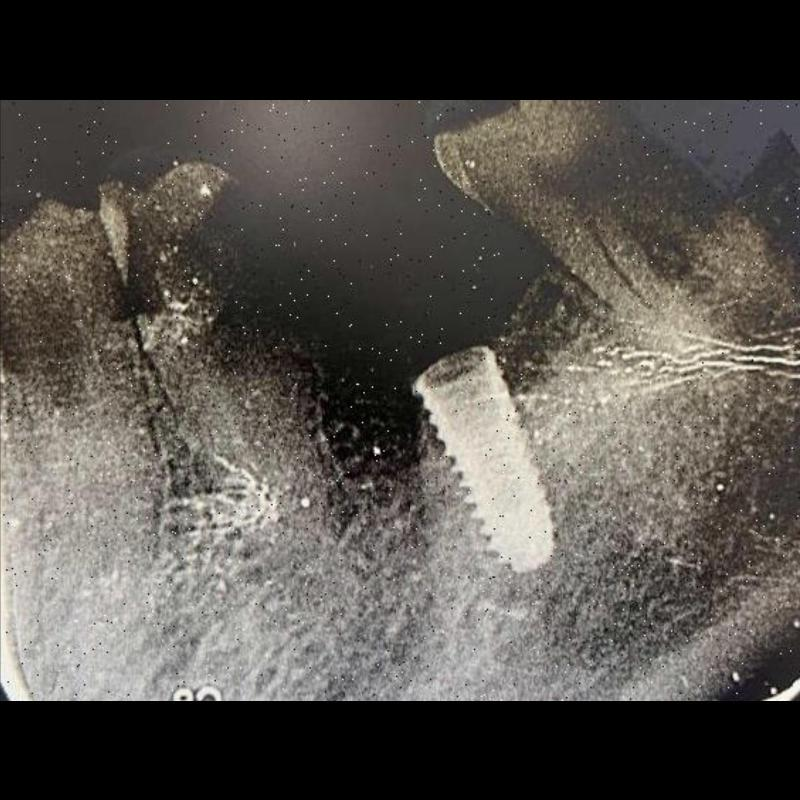osstem: (412, 340, 564, 572)
